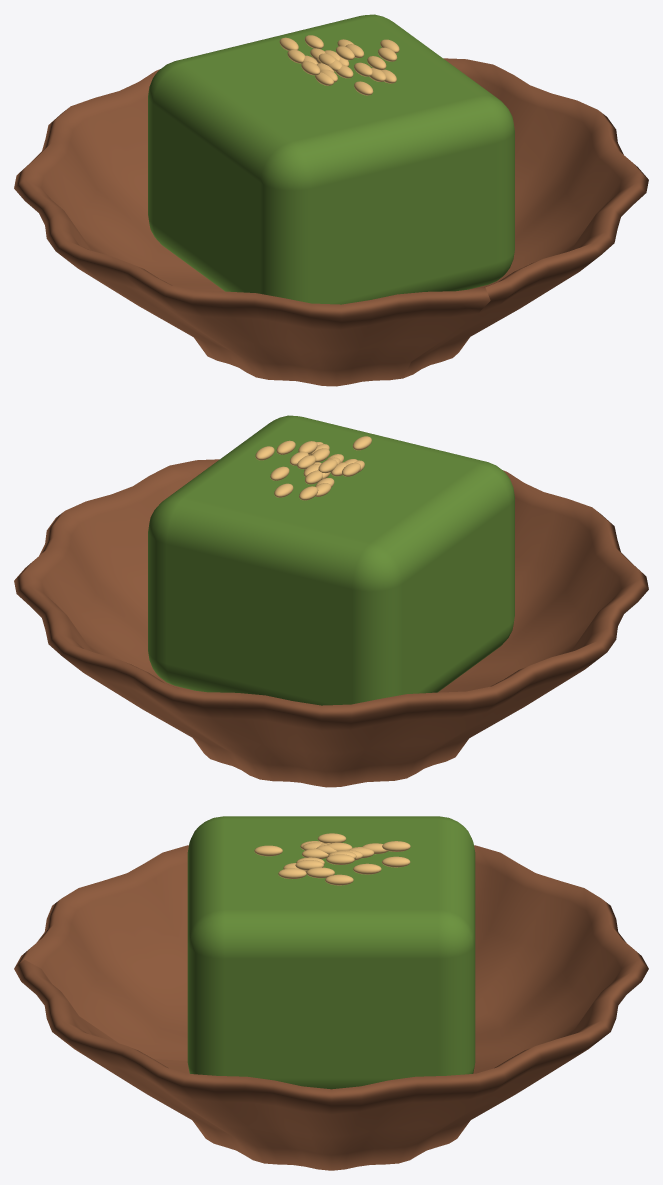
The model's file is 39-matcha-jelly.glb.
The picture shows the model from 3 angles, top to bottom: view 1: azimuth 30°, elevation 25°; view 2: azimuth 150°, elevation 25°; view 3: azimuth 270°, elevation 25°; orthographic projection.
Parts seen in each view (by area): view 1: 말차 젤리; view 2: 말차 젤리; view 3: 말차 젤리.
Part boxes in pixels (<box>): 말차 젤리: <box>14,14,648,386</box>; 말차 젤리: <box>14,415,648,787</box>; 말차 젤리: <box>14,816,648,1170</box>.
Size of the model in its own units: 1.54 by 0.7213 by 1.54.
